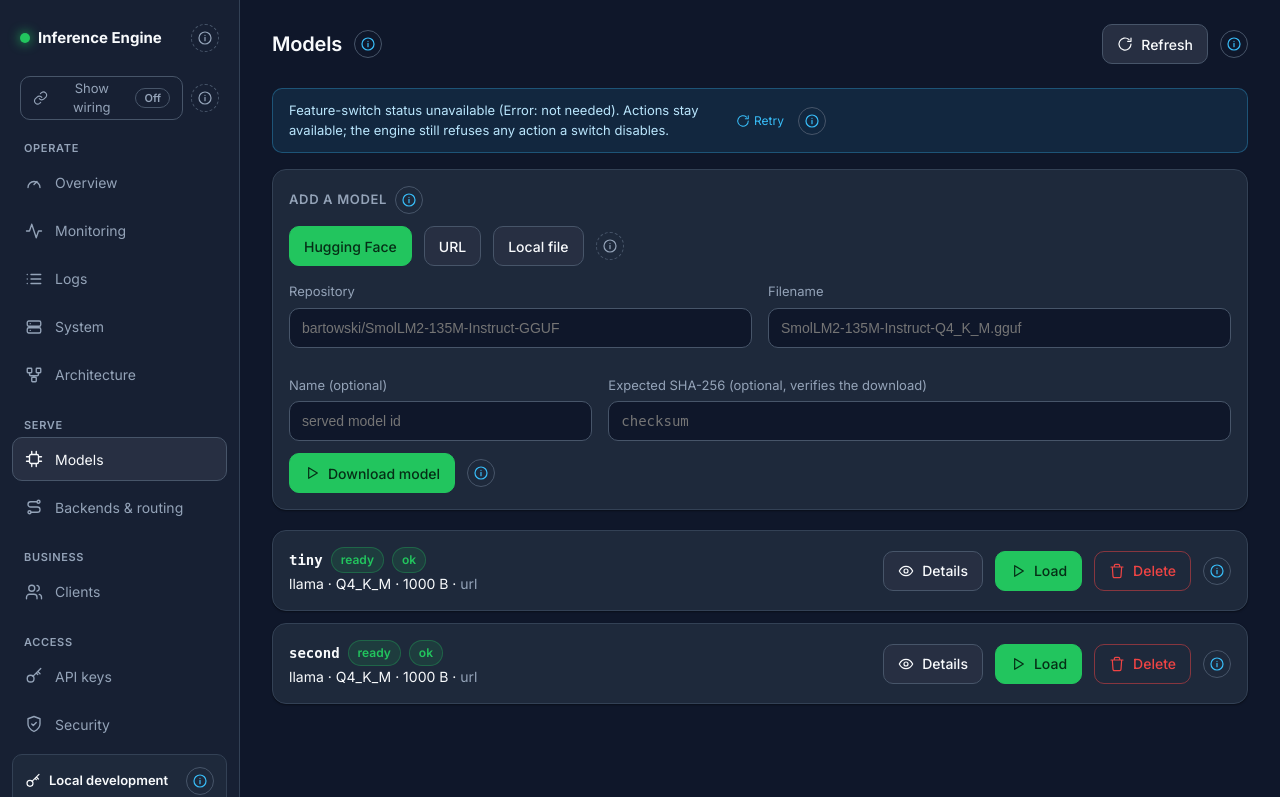
Test case: model drawer routing and focus › decodes an encoded id once and requests it encoded once
Expected: the heading "Models" is shown, [272,29,342,59]
Click the button "Details" in the row of "second".
click(933, 664)  # box [883,644,983,684]
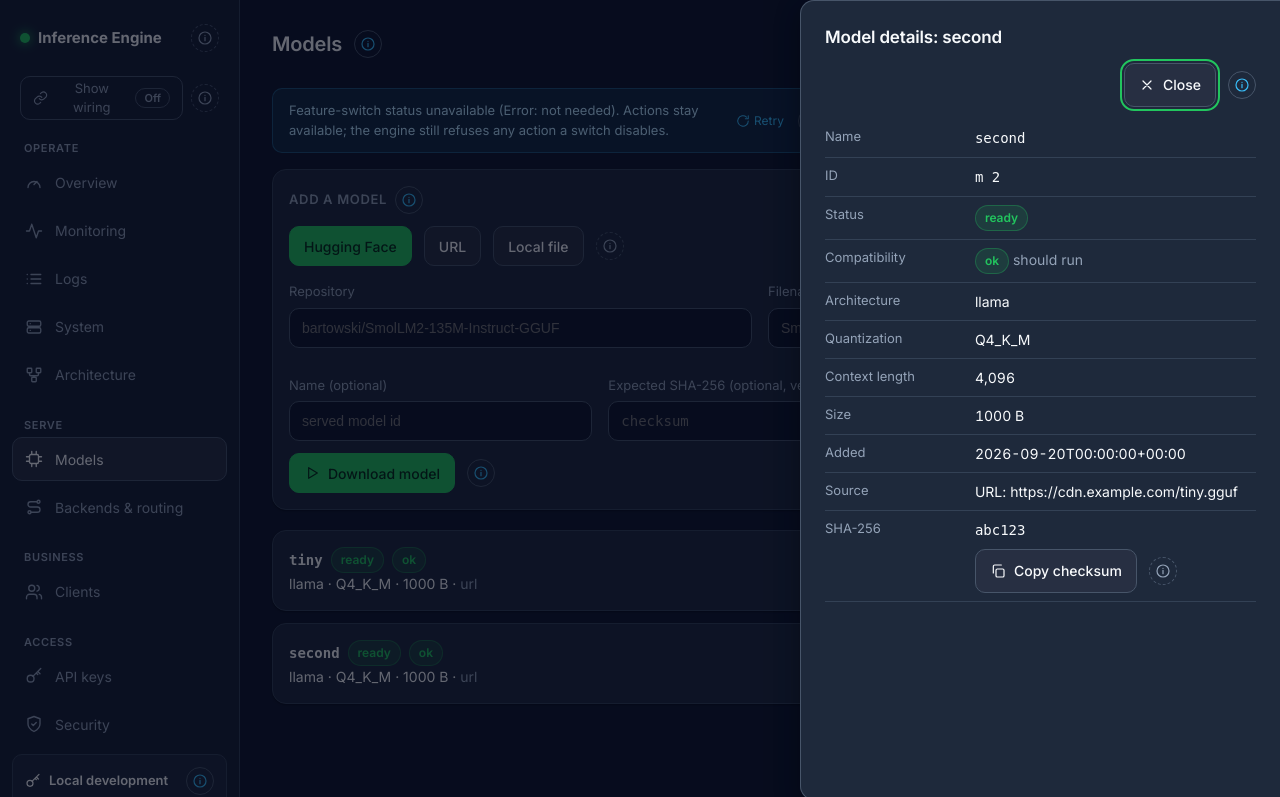
Result: the element with test id "model-details" is shown at [825,118,1256,602]
